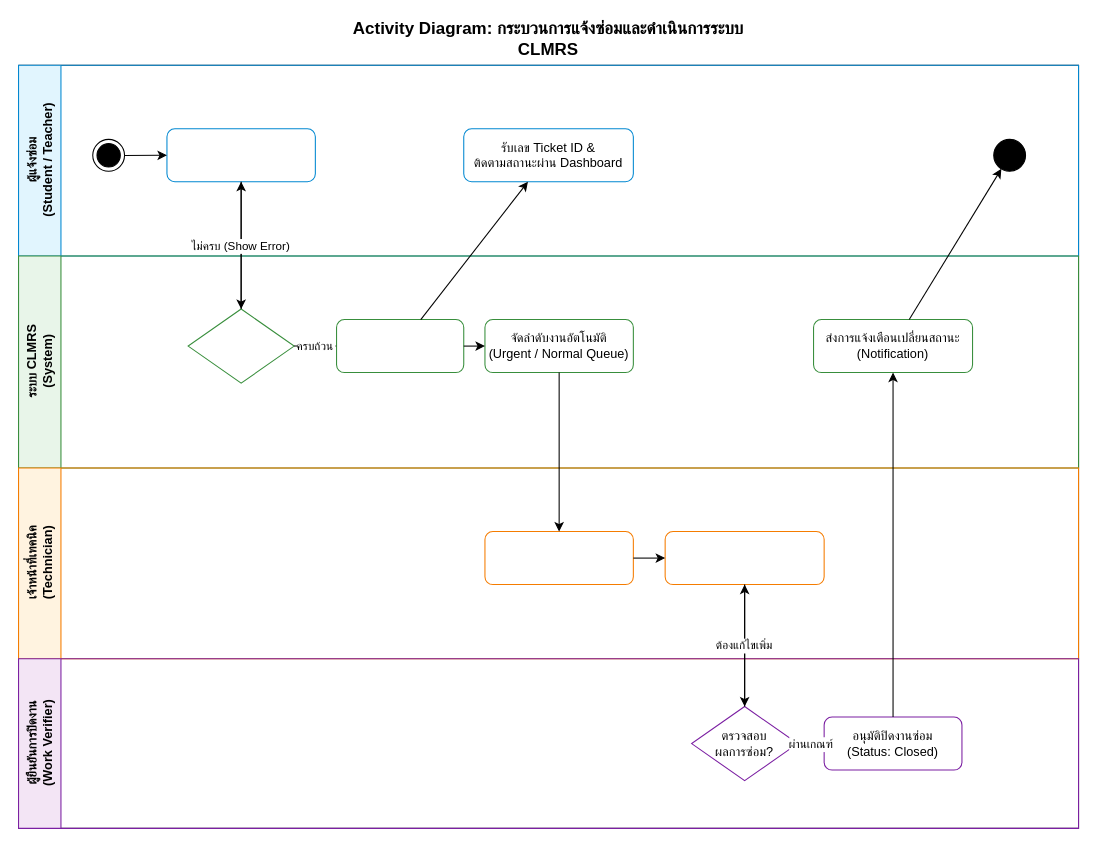
Some shapes in this 1097 by 847 pixel diagram are drawn without their labels. Each missing label, with the centre of its shape:
"กรอกข้อมูลฟอร์มแจ้งซ่อม (อาคาร, ห้อง, รายละเอียด)" belongs at (240,155).
"ดำเนินการซ่อมแซม / บันทึกผลการดำเนินงาน" belongs at (744,558).
"ตรวจสอบ ข้อมูลบังคับ?" belongs at (240,345).
"บันทึกข้อมูล & สร้าง Ticket ID" belongs at (399,346).
"รับงาน & ตรวจสอบงานซ้ำ" belongs at (558,558).
